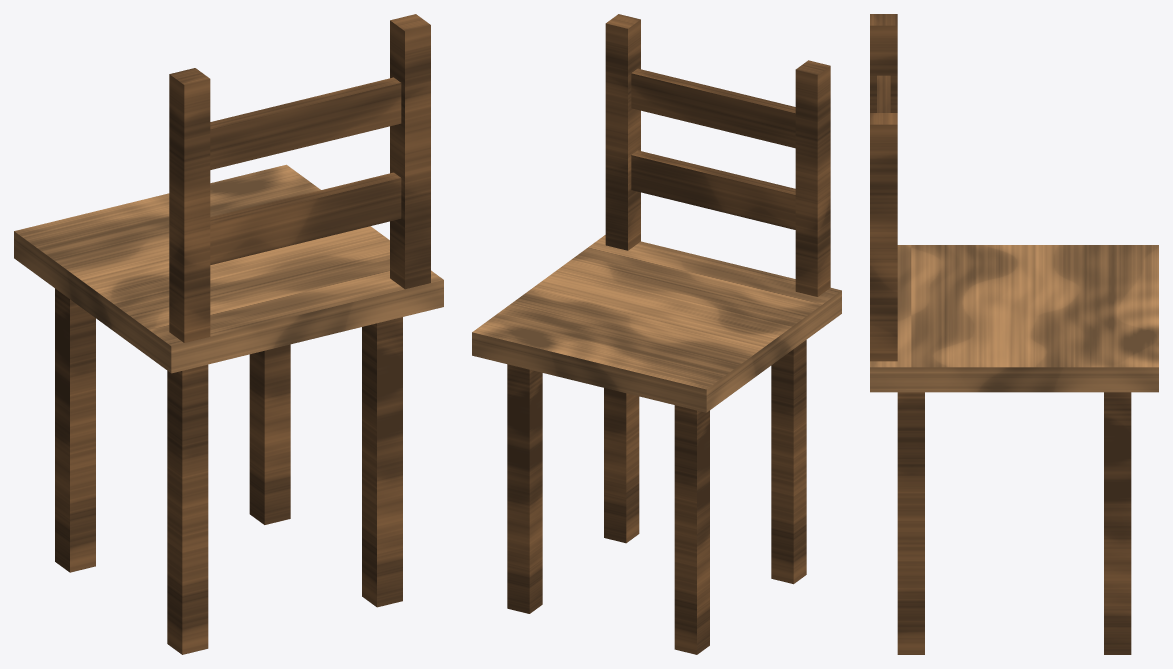
File: desk_chair.fbx
The picture shows the model from 3 angles, left to right: view 1: azimuth 30°, elevation 25°; view 2: azimuth 150°, elevation 25°; view 3: azimuth 270°, elevation 25°; orthographic projection. The views are drawn at different scales.
Parts seen in each view (by area): view 1: desk_chair; view 2: desk_chair; view 3: desk_chair.
Boxes of the visible parts, left/top/right/bottom form: desk_chair: left=14, top=14, right=443, bottom=654; desk_chair: left=472, top=14, right=841, bottom=654; desk_chair: left=870, top=14, right=1158, bottom=654.
Bounding box in the file's own units: 42 × 86 × 42.
